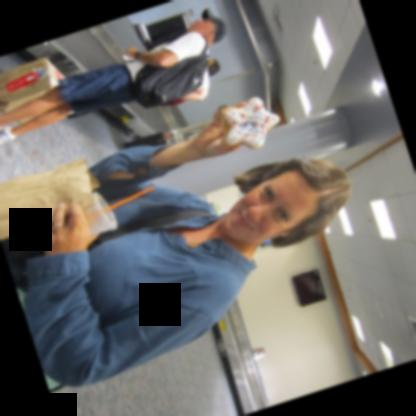backpack: (134, 56, 208, 109)
handbag: (15, 207, 213, 315), (0, 232, 45, 292)
suitcase: (124, 132, 169, 149)
